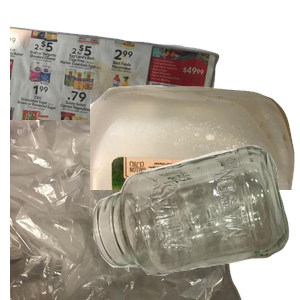glass: (91, 143, 300, 300)
paper: (10, 21, 222, 201)
plastic: (90, 82, 300, 262)
trash: (10, 120, 244, 300)
